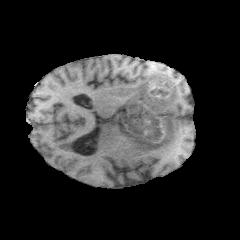glioma: (113, 69, 179, 152)
